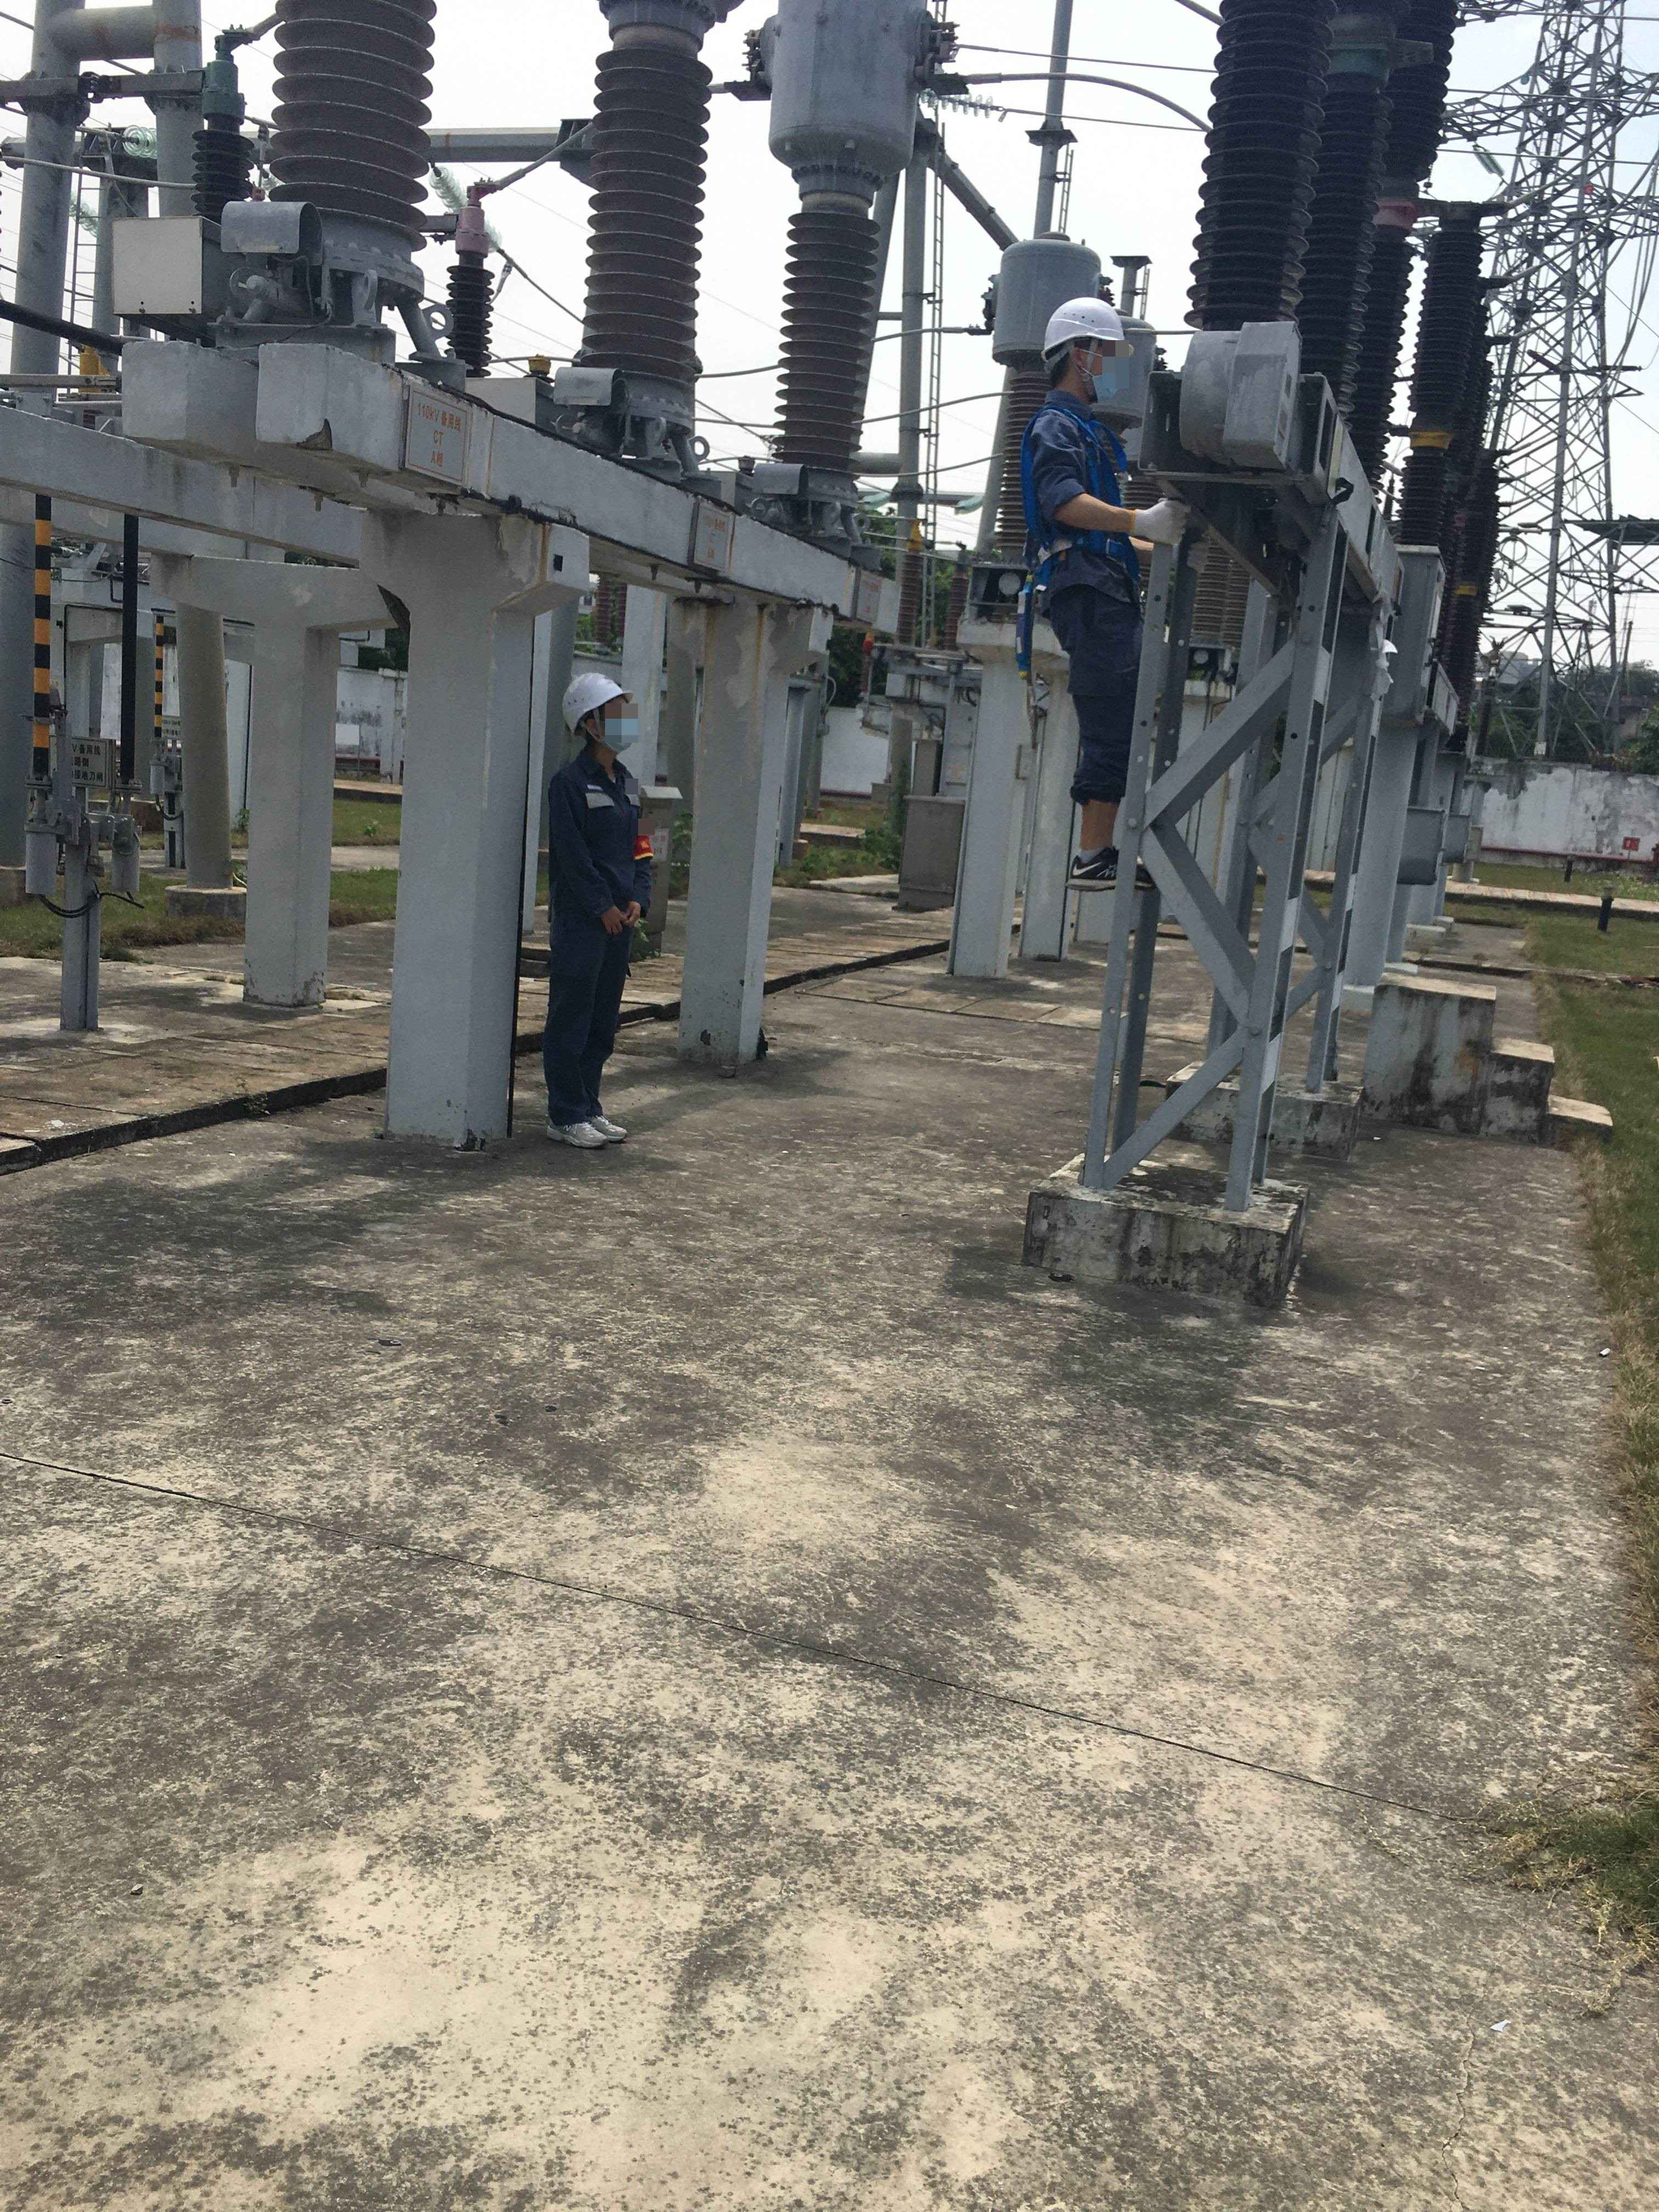downsuit: (1042, 599, 1150, 803), (547, 921, 629, 1120)
upsuit: (1021, 404, 1143, 583), (551, 759, 652, 909)
wrongbottom: (1063, 770, 1131, 869)
wrongtop: (1047, 482, 1159, 563)
